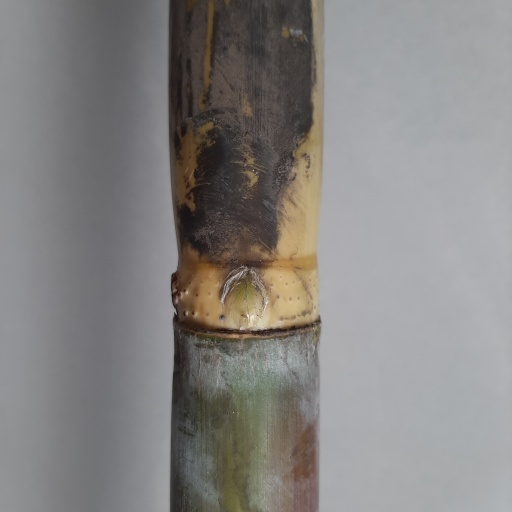Bud: (222, 271, 267, 328)
